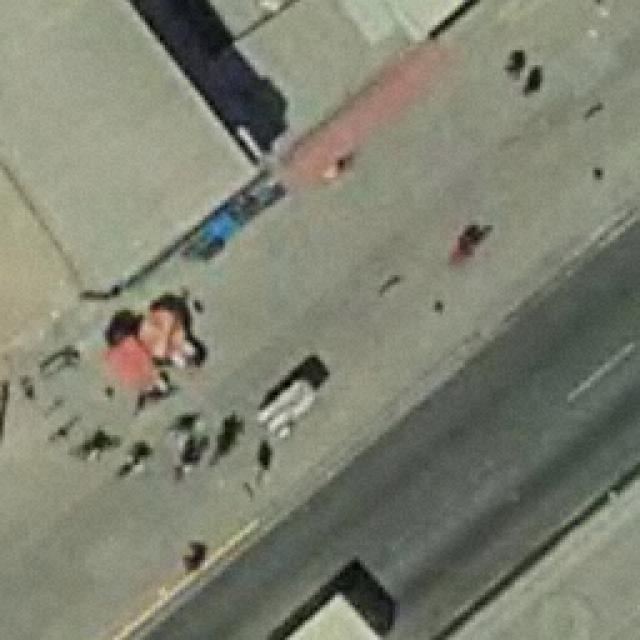vendedor_ambulante: (129, 301, 207, 369)
